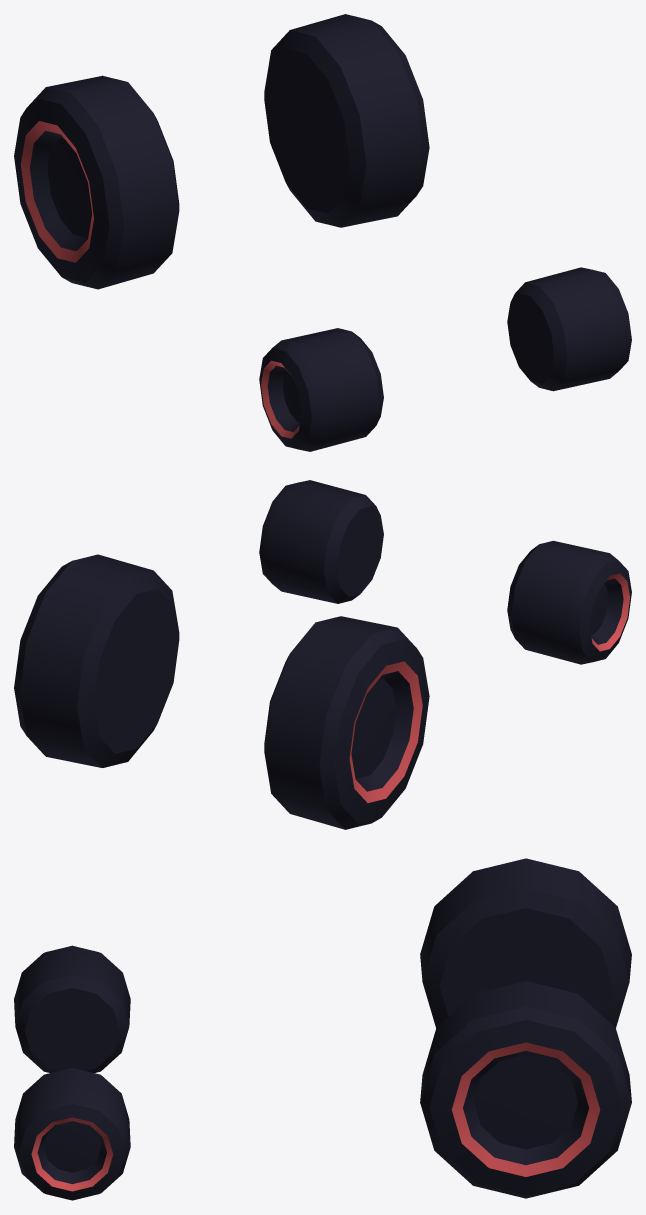
The model's file is MuscleCar_Tires.fbx.
3 renders of one model, top to bottom at view 1: azimuth 30°, elevation 25°; view 2: azimuth 150°, elevation 25°; view 3: azimuth 270°, elevation 25°, orthographic.
Parts seen in each view (by area): view 1: WheelRearRight, WheelRearLeft, WheelFrontRight, WheelFrontLeft; view 2: WheelRearLeft, WheelRearRight, WheelFrontLeft, WheelFrontRight; view 3: WheelRearLeft, WheelRearRight, WheelFrontLeft, WheelFrontRight.
Boxes of the visible parts, <box> form: WheelRearRight: <box>14,75,179,289</box>; WheelRearLeft: <box>264,14,429,227</box>; WheelFrontRight: <box>259,328,383,451</box>; WheelFrontLeft: <box>507,267,631,391</box>; WheelRearLeft: <box>14,554,179,767</box>; WheelRearRight: <box>264,616,429,829</box>; WheelFrontLeft: <box>259,480,383,603</box>; WheelFrontRight: <box>507,540,631,664</box>; WheelRearLeft: <box>420,981,631,1198</box>; WheelRearRight: <box>420,858,631,1027</box>; WheelFrontLeft: <box>14,1067,130,1200</box>; WheelFrontRight: <box>14,945,130,1072</box>.
Size of the model in its own units: 177 by 98.4 by 285.
